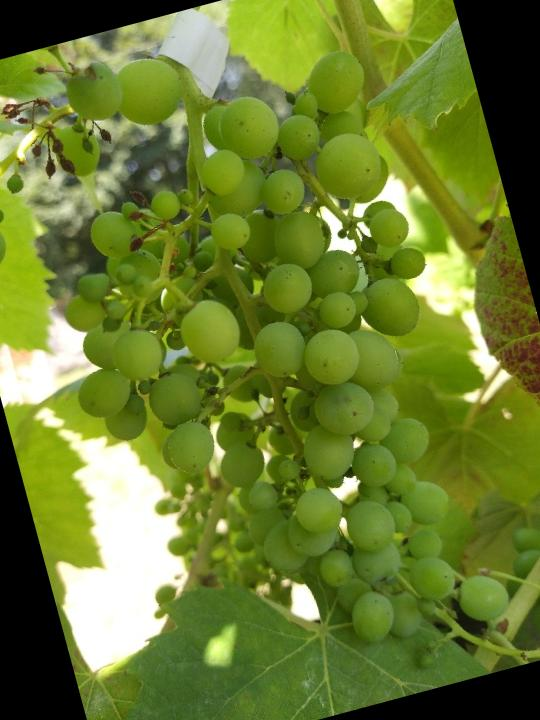grape: (2, 41, 517, 710)
